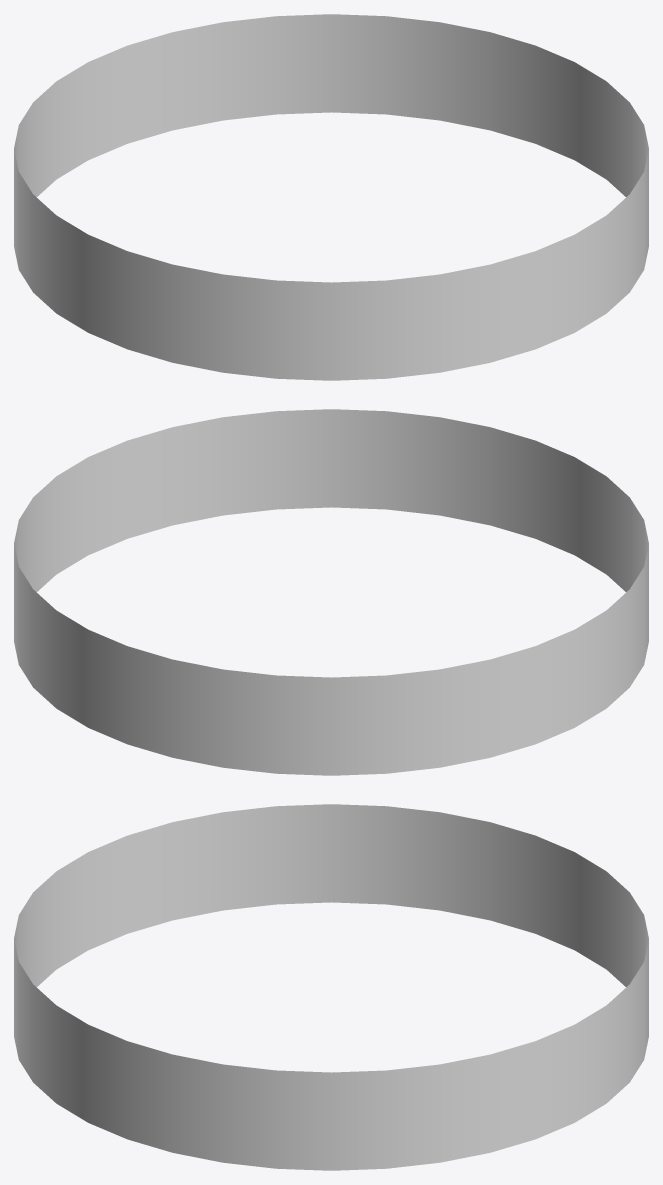
File: Your_Message.FBX
3 renders of one model, top to bottom at view 1: azimuth 30°, elevation 25°; view 2: azimuth 150°, elevation 25°; view 3: azimuth 270°, elevation 25°, orthographic.
Parts seen in each view (by area): view 1: Your_Message; view 2: Your_Message; view 3: Your_Message.
Part boxes in pixels (bbox=[...]): Your_Message: bbox=[14, 14, 648, 380]; Your_Message: bbox=[14, 409, 648, 775]; Your_Message: bbox=[14, 804, 648, 1170].
Size of the model in its own units: 5.85 by 1 by 5.85.
Materials: 1 (1 with a texture image).
